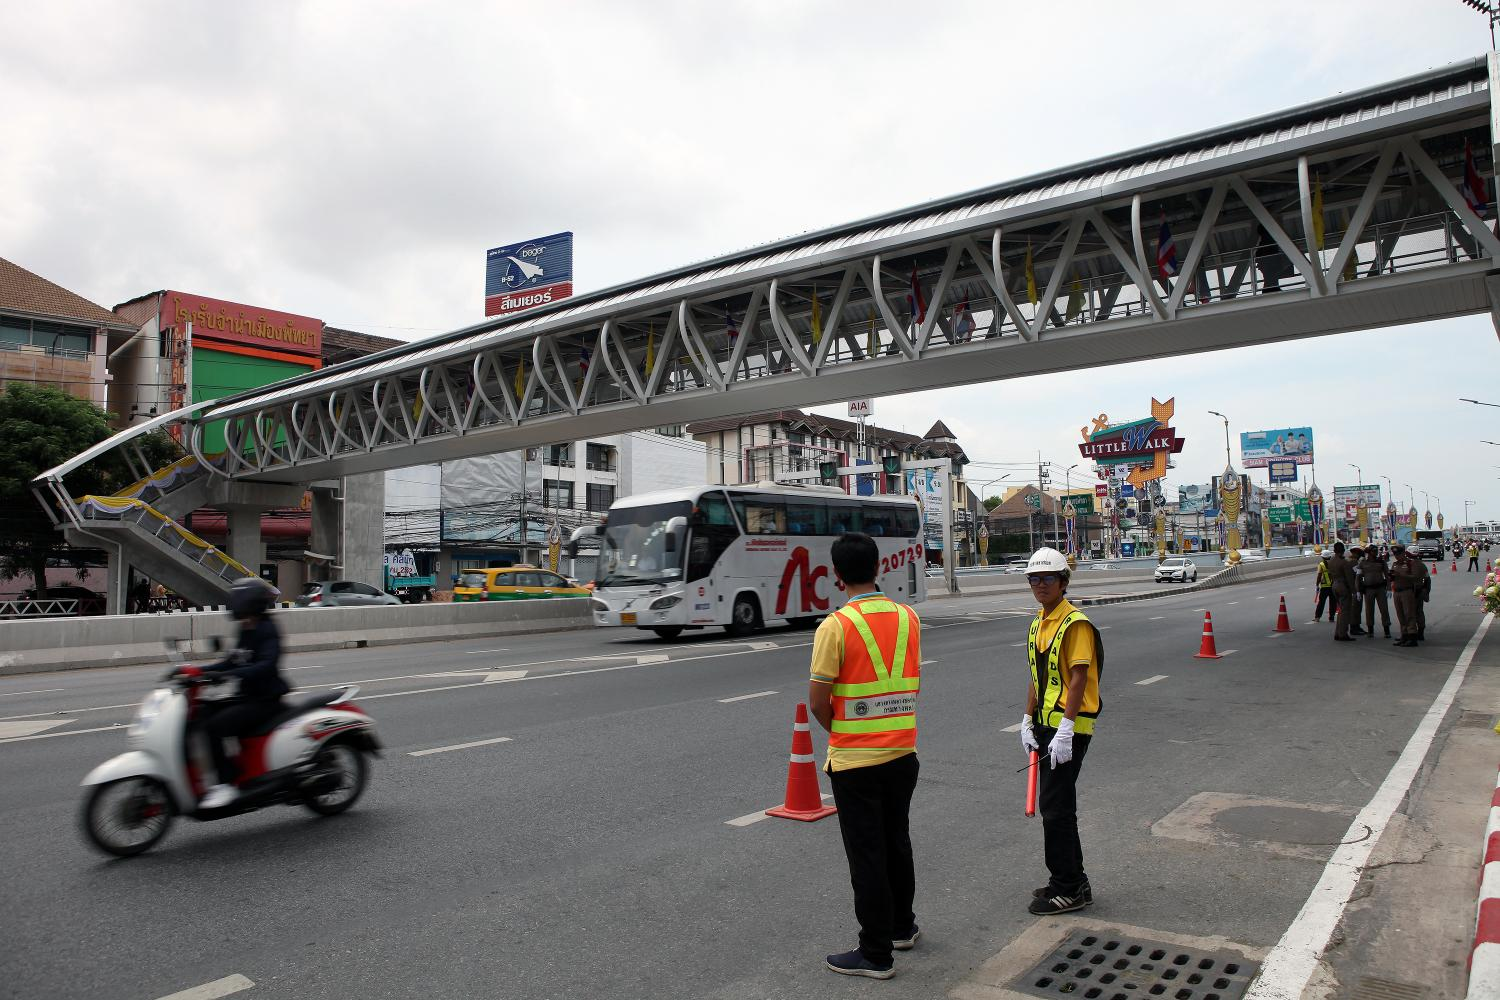bridge: (186, 52, 1491, 485)
